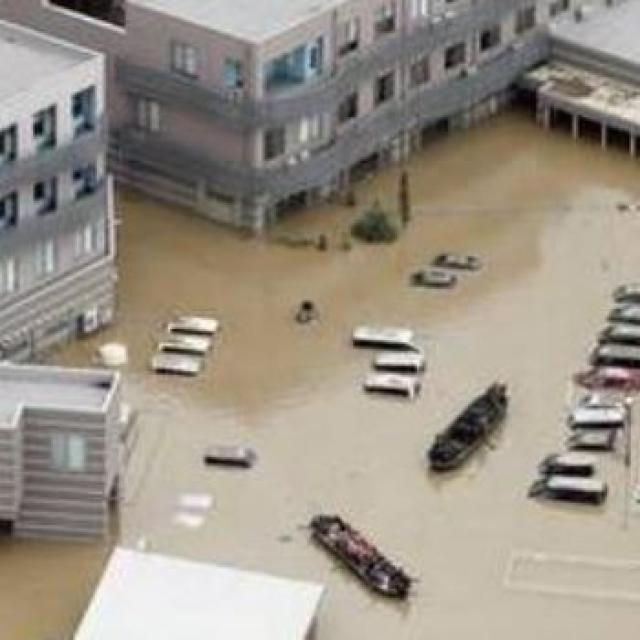flooded_areas: (0, 131, 636, 634)
